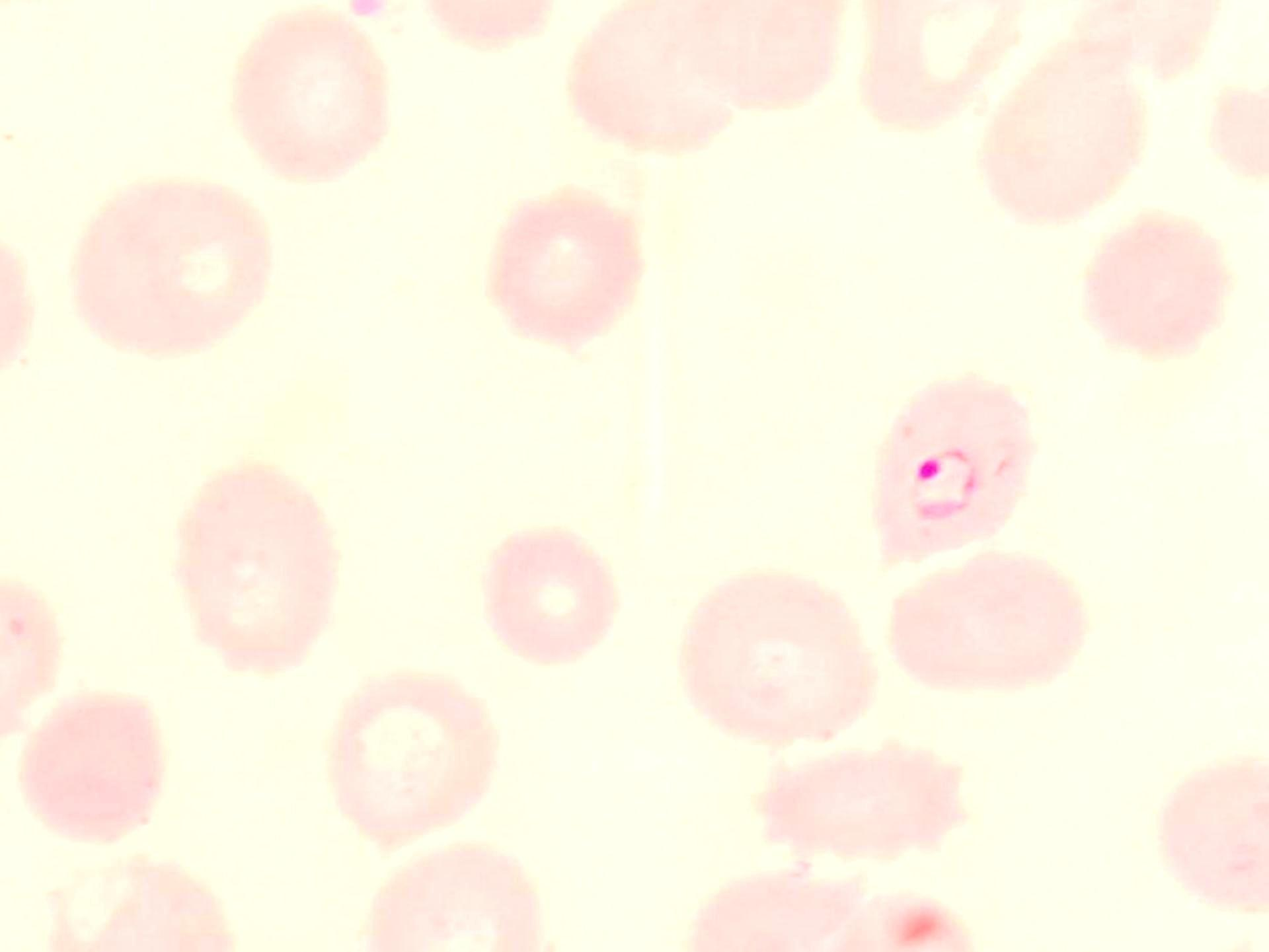Infected: (863, 379, 1036, 560)
Uninfected: (68, 177, 274, 350), (177, 463, 339, 674), (679, 570, 873, 745), (973, 42, 1148, 221), (330, 677, 500, 845), (886, 555, 1087, 695), (228, 10, 391, 181), (565, 5, 744, 153), (481, 187, 644, 339), (15, 694, 164, 845), (1079, 207, 1230, 354), (854, 0, 1023, 131), (758, 752, 964, 856), (372, 833, 541, 952), (1153, 750, 1269, 905), (484, 532, 611, 670), (676, 0, 835, 108)
